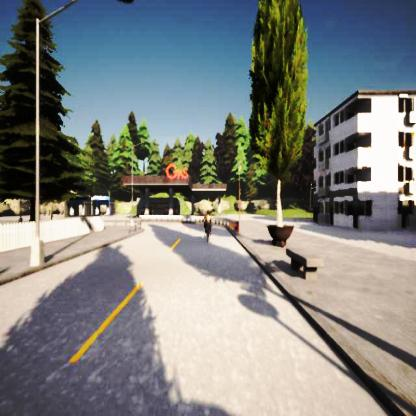motobike: (202, 212, 213, 240)
